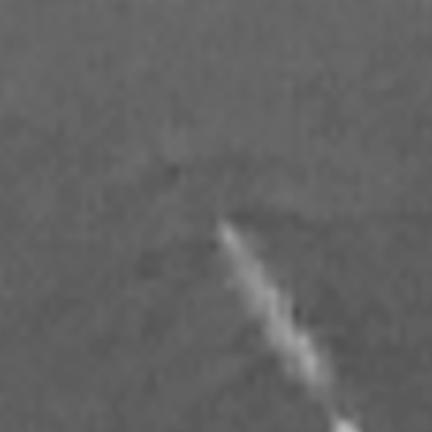flukeprints: (218, 223, 332, 397)
